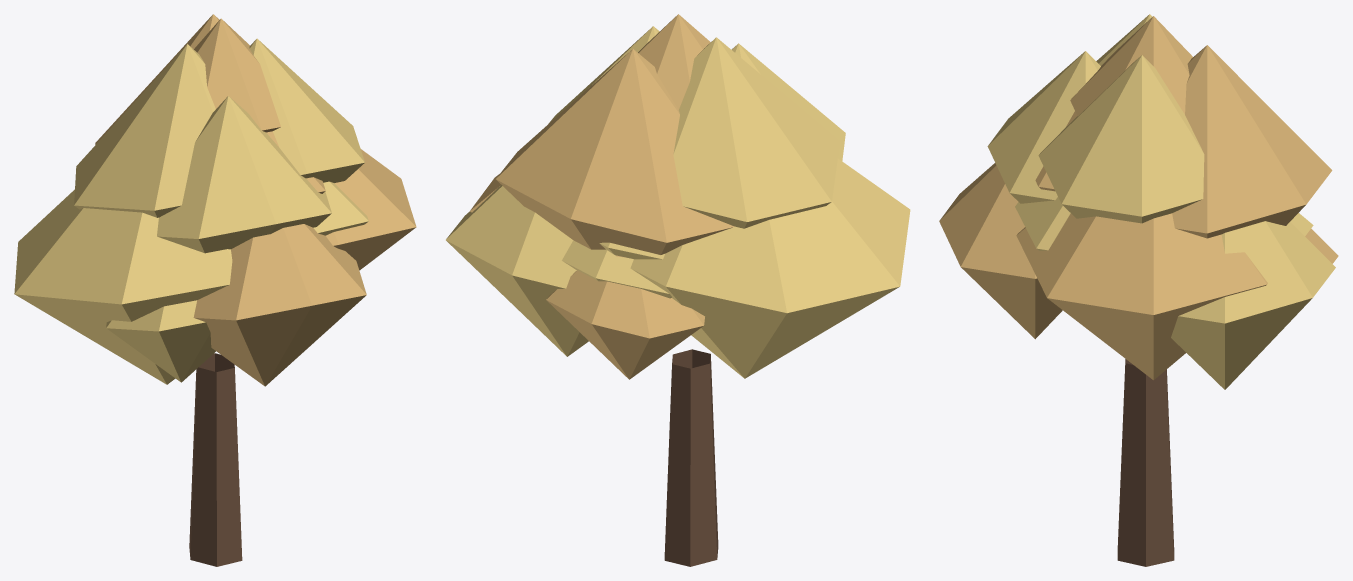
Rendered from tree_reference_oak_tall_01_hlod.fbx.
3 renders of one model, left to right at view 1: azimuth 30°, elevation 25°; view 2: azimuth 150°, elevation 25°; view 3: azimuth 270°, elevation 25°, orthographic. The views are drawn at different scales.
Parts seen in each view (by area): view 1: tree_reference_oak_tall_01_hlod_canopy_03, tree_reference_oak_tall_01_hlod_canopy_08, tree_reference_oak_tall_01_hlod_canopy_05, tree_reference_oak_tall_01_hlod_canopy_14, tree_reference_oak_tall_01_hlod_trunk_00, tree_reference_oak_tall_01_hlod_canopy_11, tree_reference_oak_tall_01_hlod_canopy_01, tree_reference_oak_tall_01_hlod_canopy_09, tree_reference_oak_tall_01_hlod_canopy_10, tree_reference_oak_tall_01_hlod_canopy_00, tree_reference_oak_tall_01_hlod_canopy_04; view 2: tree_reference_oak_tall_01_hlod_canopy_03, tree_reference_oak_tall_01_hlod_canopy_04, tree_reference_oak_tall_01_hlod_canopy_14, tree_reference_oak_tall_01_hlod_canopy_07, tree_reference_oak_tall_01_hlod_trunk_00, tree_reference_oak_tall_01_hlod_canopy_06, tree_reference_oak_tall_01_hlod_canopy_10, tree_reference_oak_tall_01_hlod_canopy_02, tree_reference_oak_tall_01_hlod_canopy_05, tree_reference_oak_tall_01_hlod_canopy_11, tree_reference_oak_tall_01_hlod_canopy_00; view 3: tree_reference_oak_tall_01_hlod_canopy_01, tree_reference_oak_tall_01_hlod_canopy_11, tree_reference_oak_tall_01_hlod_canopy_04, tree_reference_oak_tall_01_hlod_canopy_07, tree_reference_oak_tall_01_hlod_trunk_00, tree_reference_oak_tall_01_hlod_canopy_08, tree_reference_oak_tall_01_hlod_canopy_05, tree_reference_oak_tall_01_hlod_canopy_10, tree_reference_oak_tall_01_hlod_canopy_00.
Part boxes in pixels (left/top/right/bottom): tree_reference_oak_tall_01_hlod_canopy_03: left=14, top=189, right=232, bottom=384; tree_reference_oak_tall_01_hlod_canopy_08: left=193, top=224, right=366, bottom=386; tree_reference_oak_tall_01_hlod_canopy_05: left=157, top=96, right=331, bottom=253; tree_reference_oak_tall_01_hlod_canopy_14: left=74, top=44, right=215, bottom=217; tree_reference_oak_tall_01_hlod_trunk_00: left=189, top=353, right=242, bottom=566; tree_reference_oak_tall_01_hlod_canopy_11: left=249, top=38, right=364, bottom=182; tree_reference_oak_tall_01_hlod_canopy_01: left=325, top=149, right=416, bottom=270; tree_reference_oak_tall_01_hlod_canopy_09: left=106, top=300, right=215, bottom=382; tree_reference_oak_tall_01_hlod_canopy_10: left=194, top=18, right=280, bottom=132; tree_reference_oak_tall_01_hlod_canopy_00: left=313, top=181, right=368, bottom=235; tree_reference_oak_tall_01_hlod_canopy_04: left=95, top=14, right=219, bottom=144; tree_reference_oak_tall_01_hlod_canopy_03: left=630, top=158, right=910, bottom=378; tree_reference_oak_tall_01_hlod_canopy_04: left=496, top=49, right=734, bottom=254; tree_reference_oak_tall_01_hlod_canopy_14: left=673, top=37, right=839, bottom=228; tree_reference_oak_tall_01_hlod_canopy_07: left=446, top=185, right=588, bottom=356; tree_reference_oak_tall_01_hlod_trunk_00: left=664, top=349, right=718, bottom=566; tree_reference_oak_tall_01_hlod_canopy_06: left=546, top=255, right=704, bottom=379; tree_reference_oak_tall_01_hlod_canopy_10: left=638, top=14, right=710, bottom=109; tree_reference_oak_tall_01_hlod_canopy_02: left=562, top=240, right=671, bottom=298; tree_reference_oak_tall_01_hlod_canopy_05: left=731, top=43, right=845, bottom=160; tree_reference_oak_tall_01_hlod_canopy_11: left=548, top=26, right=659, bottom=123; tree_reference_oak_tall_01_hlod_canopy_00: left=599, top=242, right=664, bottom=259; tree_reference_oak_tall_01_hlod_canopy_01: left=1016, top=213, right=1267, bottom=380; tree_reference_oak_tall_01_hlod_canopy_11: left=1038, top=55, right=1204, bottom=223; tree_reference_oak_tall_01_hlod_canopy_04: left=1172, top=45, right=1332, bottom=238; tree_reference_oak_tall_01_hlod_canopy_07: left=1171, top=221, right=1335, bottom=389; tree_reference_oak_tall_01_hlod_trunk_00: left=1117, top=359, right=1174, bottom=566; tree_reference_oak_tall_01_hlod_canopy_08: left=939, top=163, right=1062, bottom=339; tree_reference_oak_tall_01_hlod_canopy_05: left=987, top=51, right=1100, bottom=203; tree_reference_oak_tall_01_hlod_canopy_10: left=1070, top=16, right=1192, bottom=116; tree_reference_oak_tall_01_hlod_canopy_00: left=1015, top=197, right=1070, bottom=250.
Size of the model in its own units: 484 by 625 by 417.
